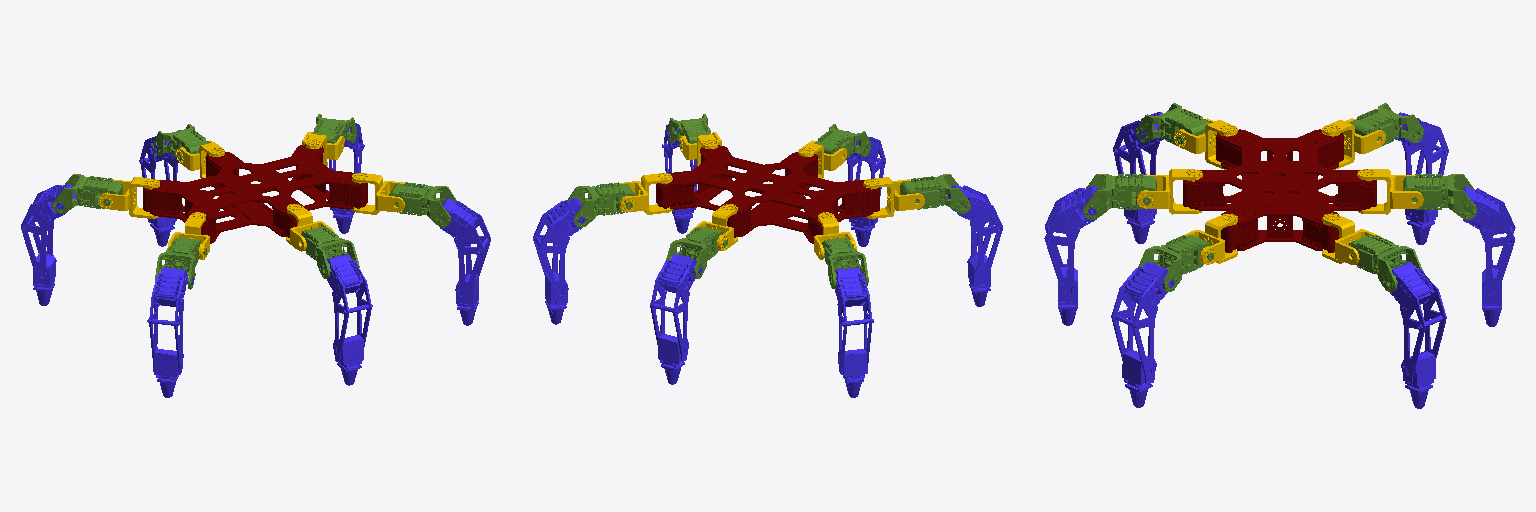
The robot description file, URDF, robot "phantomx":
<?xml version="1.0" ?>
<!-- =================================================================================== -->
<!-- |    This document was autogenerated by xacro from phantomx/phantomx.xacro        | -->
<!-- |    EDITING THIS FILE BY HAND IS NOT RECOMMENDED                                 | -->
<!-- =================================================================================== -->
<robot name="phantomx" xmlns:xacro="http://www.ros.org/wiki/xacro">
  <material name="Blue">
    <color rgba="0.33 0.25 1.0 1.0"/>
  </material>
  <material name="DarkBlue">
    <color rgba="0.03 0.16 0.8 1.0"/>
  </material>
  <material name="Green">
    <color rgba="0.0 0.8 0.0 1.0"/>
  </material>
  <material name="Grey">
    <color rgba="0.7 0.7 0.7 1.0"/>
  </material>
  <material name="DarkGreen">
    <color rgba="0.4 0.6 0.24 1.0"/>
  </material>
  <material name="Red">
    <color rgba="0.48 0.03 0.03 1.0"/>
  </material>
  <material name="White">
    <color rgba="1.0 1.0 1.0 1.0"/>
  </material>
  <material name="Yellow">
    <color rgba="1.0 0.8 0.0 1.0"/>
  </material>
  <!-- Build the body frame -->
  <link name="baseLink">
    <inertial>
      <origin xyz="0 0 0"/>
      <mass value="0.97559947"/>
      <inertia ixx="3.1081800" ixy="0" ixz="0" iyy="5.3787776" iyz="0" izz="3.3316425"/>
    </inertial>
    <visual>
      <!--origin xyz="-0.0235 0 -0.03525" rpy="0 0 0" / -->
      <origin rpy="0 0 0" xyz="0 0 0"/>
      <geometry>
        <!--box size="0.102 0.109 0.106" / -->
        <mesh filename="meshes/body_low.STL" scale="1 1 1"/>
      </geometry>
      <material name="Red"/>
    </visual>
    <collision>
      <origin rpy="0 0 0" xyz="0 0 0"/>
      <geometry>
        <mesh filename="meshes/body_coll.STL" scale="1 1 1"/>
      </geometry>
    </collision>
  </link>
  <link name="c1_rf">
    <inertial>
      <origin rpy="0 0 0" xyz="0 -0.02633 0"/>
      <mass value="0.024357719"/>
      <inertia ixx="0.0051411124" ixy="0" ixz="0" iyy="0.0081915737" iyz="0" izz="0.0041379812"/>
    </inertial>
    <visual>
      <origin rpy="0 0 0" xyz="0 -0.0252 0"/>
      <geometry>
        <!--box size="0.045 0.022 0.0325" / -->
        <mesh filename="meshes/connect_low.STL" scale="1 1 1"/>
      </geometry>
      <material name="Yellow"/>
    </visual>
    <collision>
      <origin rpy="0 0 0" xyz="0 -0.02633 0"/>
      <geometry>
        <mesh filename="meshes/connect_coll.STL" scale="1 1 1"/>
      </geometry>
    </collision>
  </link>
  <link name="c2_rf">
    <inertial>
      <origin rpy="0 0 0" xyz="0 -0.02633 0"/>
      <mass value="0.024357719"/>
      <inertia ixx="0.0051411124" ixy="0" ixz="0" iyy="0.0081915737" iyz="0" izz="0.0041379812"/>
    </inertial>
    <visual>
      <origin rpy="0 0 0" xyz="0 -0.0252 0"/>
      <geometry>
        <!--box size="0.045 0.022 0.0325" / -->
        <mesh filename="meshes/connect_low.STL" scale="1 1 1"/>
      </geometry>
      <material name="Yellow"/>
    </visual>
    <collision>
      <origin rpy="0 0 0" xyz="0 -0.02633 0"/>
      <geometry>
        <mesh filename="meshes/connect_coll.STL" scale="1 1 1"/>
      </geometry>
    </collision>
  </link>
  <link name="thigh_rf">
    <inertial>
      <origin rpy="0 0 0" xyz="0 0 0"/>
      <mass value="0.024357719"/>
      <inertia ixx="0.0051411124" ixy="0" ixz="0" iyy="0.0081915737" iyz="0" izz="0.0041379812"/>
    </inertial>
    <visual>
      <origin rpy="0 0 0" xyz="0 0 0"/>
      <geometry>
        <!--box size="0.045 0.022 0.0325" / -->
        <mesh filename="meshes/thigh_l_low.STL" scale="1 1 1"/>
      </geometry>
      <material name="DarkGreen"/>
    </visual>
    <collision>
      <origin rpy="0 0 0" xyz="0 0 0"/>
      <geometry>
        <mesh filename="meshes/thigh_l_coll.STL" scale="1 1 1"/>
      </geometry>
    </collision>
  </link>
  <link name="tibia_rf">
    <inertial>
      <origin rpy="0 0 0" xyz="0 0 0"/>
      <mass value="0.024357719"/>
      <inertia ixx="0.0051411124" ixy="0" ixz="0" iyy="0.0081915737" iyz="0" izz="0.0041379812"/>
    </inertial>
    <visual>
      <origin rpy="0 0 0" xyz="0 0 0"/>
      <geometry>
        <!--box size="0.045 0.022 0.0325" / -->
        <mesh filename="meshes/tibia_l_low.STL" scale="1 1 1"/>
      </geometry>
      <material name="Blue"/>
    </visual>
    <collision>
      <origin rpy="0 0 0" xyz="0 0 0"/>
      <geometry>
        <mesh filename="meshes/tibia_l_coll.STL" scale="1 1 1"/>
      </geometry>
    </collision>
  </link>
  <joint name="j_c1_rf" type="revolute">
    <parent link="baseLink"/>
    <child link="c1_rf"/>
    <origin rpy="0 4.7123 0.7853981633974483" xyz="0.1248 -0.06164  0.001116"/>
    <axis xyz="1 0 0"/>
    <limit effort="2.8" lower="-2.6179939" upper="2.6179939" velocity="5.6548668"/>
  </joint>
  <joint name="j_c2_rf" type="fixed">
    <parent link="c1_rf"/>
    <child link="c2_rf"/>
    <origin rpy="0 1.5704 3.14159" xyz="0 -0.054 0"/>
  </joint>
  <joint name="j_thigh_rf" type="revolute">
    <parent link="c2_rf"/>
    <child link="thigh_rf"/>
    <origin rpy=" 0 3.14159 3.14159" xyz="0 0 0"/>
    <axis xyz="1 0 0"/>
    <limit effort="2.8" lower="-2.6179939" upper="2.6179939" velocity="5.6548668"/>
  </joint>
  <joint name="j_tibia_rf" type="revolute">
    <parent link="thigh_rf"/>
    <child link="tibia_rf"/>
    <origin rpy="-1.5707 0 3.14159" xyz="0 -0.0645 -0.0145"/>
    <axis xyz="1 0 0"/>
    <limit effort="2.8" lower="-2.6179939" upper="2.6179939" velocity="5.6548668"/>
  </joint>
  <link name="c1_rm">
    <inertial>
      <origin rpy="0 0 0" xyz="0 -0.02633 0"/>
      <mass value="0.024357719"/>
      <inertia ixx="0.0051411124" ixy="0" ixz="0" iyy="0.0081915737" iyz="0" izz="0.0041379812"/>
    </inertial>
    <visual>
      <origin rpy="0 0 0" xyz="0 -0.0252 0"/>
      <geometry>
        <!--box size="0.045 0.022 0.0325" / -->
        <mesh filename="meshes/connect_low.STL" scale="1 1 1"/>
      </geometry>
      <material name="Yellow"/>
    </visual>
    <collision>
      <origin rpy="0 0 0" xyz="0 -0.02633 0"/>
      <geometry>
        <mesh filename="meshes/connect_coll.STL" scale="1 1 1"/>
      </geometry>
    </collision>
  </link>
  <link name="c2_rm">
    <inertial>
      <origin rpy="0 0 0" xyz="0 -0.02633 0"/>
      <mass value="0.024357719"/>
      <inertia ixx="0.0051411124" ixy="0" ixz="0" iyy="0.0081915737" iyz="0" izz="0.0041379812"/>
    </inertial>
    <visual>
      <origin rpy="0 0 0" xyz="0 -0.0252 0"/>
      <geometry>
        <!--box size="0.045 0.022 0.0325" / -->
        <mesh filename="meshes/connect_low.STL" scale="1 1 1"/>
      </geometry>
      <material name="Yellow"/>
    </visual>
    <collision>
      <origin rpy="0 0 0" xyz="0 -0.02633 0"/>
      <geometry>
        <mesh filename="meshes/connect_coll.STL" scale="1 1 1"/>
      </geometry>
    </collision>
  </link>
  <link name="thigh_rm">
    <inertial>
      <origin rpy="0 0 0" xyz="0 0 0"/>
      <mass value="0.024357719"/>
      <inertia ixx="0.0051411124" ixy="0" ixz="0" iyy="0.0081915737" iyz="0" izz="0.0041379812"/>
    </inertial>
    <visual>
      <origin rpy="0 0 0" xyz="0 0 0"/>
      <geometry>
        <!--box size="0.045 0.022 0.0325" / -->
        <mesh filename="meshes/thigh_l_low.STL" scale="1 1 1"/>
      </geometry>
      <material name="DarkGreen"/>
    </visual>
    <collision>
      <origin rpy="0 0 0" xyz="0 0 0"/>
      <geometry>
        <mesh filename="meshes/thigh_l_coll.STL" scale="1 1 1"/>
      </geometry>
    </collision>
  </link>
  <link name="tibia_rm">
    <inertial>
      <origin rpy="0 0 0" xyz="0 0 0"/>
      <mass value="0.024357719"/>
      <inertia ixx="0.0051411124" ixy="0" ixz="0" iyy="0.0081915737" iyz="0" izz="0.0041379812"/>
    </inertial>
    <visual>
      <origin rpy="0 0 0" xyz="0 0 0"/>
      <geometry>
        <!--box size="0.045 0.022 0.0325" / -->
        <mesh filename="meshes/tibia_l_low.STL" scale="1 1 1"/>
      </geometry>
      <material name="Blue"/>
    </visual>
    <collision>
      <origin rpy="0 0 0" xyz="0 0 0"/>
      <geometry>
        <mesh filename="meshes/tibia_l_coll.STL" scale="1 1 1"/>
      </geometry>
    </collision>
  </link>
  <joint name="j_c1_rm" type="revolute">
    <parent link="baseLink"/>
    <child link="c1_rm"/>
    <origin rpy="0 4.7123 0" xyz="0 -0.1034  0.001116"/>
    <axis xyz="1 0 0"/>
    <limit effort="2.8" lower="-2.6179939" upper="2.6179939" velocity="5.6548668"/>
  </joint>
  <joint name="j_c2_rm" type="fixed">
    <parent link="c1_rm"/>
    <child link="c2_rm"/>
    <origin rpy="0 1.5704 3.14159" xyz="0 -0.054 0"/>
  </joint>
  <joint name="j_thigh_rm" type="revolute">
    <parent link="c2_rm"/>
    <child link="thigh_rm"/>
    <origin rpy=" 0 3.14159 3.14159" xyz="0 0 0"/>
    <axis xyz="1 0 0"/>
    <limit effort="2.8" lower="-2.6179939" upper="2.6179939" velocity="5.6548668"/>
  </joint>
  <joint name="j_tibia_rm" type="revolute">
    <parent link="thigh_rm"/>
    <child link="tibia_rm"/>
    <origin rpy="-1.5707 0 3.14159" xyz="0 -0.0645 -0.0145"/>
    <axis xyz="1 0 0"/>
    <limit effort="2.8" lower="-2.6179939" upper="2.6179939" velocity="5.6548668"/>
  </joint>
  <link name="c1_rr">
    <inertial>
      <origin rpy="0 0 0" xyz="0 -0.02633 0"/>
      <mass value="0.024357719"/>
      <inertia ixx="0.0051411124" ixy="0" ixz="0" iyy="0.0081915737" iyz="0" izz="0.0041379812"/>
    </inertial>
    <visual>
      <origin rpy="0 0 0" xyz="0 -0.0252 0"/>
      <geometry>
        <!--box size="0.045 0.022 0.0325" / -->
        <mesh filename="meshes/connect_low.STL" scale="1 1 1"/>
      </geometry>
      <material name="Yellow"/>
    </visual>
    <collision>
      <origin rpy="0 0 0" xyz="0 -0.02633 0"/>
      <geometry>
        <mesh filename="meshes/connect_coll.STL" scale="1 1 1"/>
      </geometry>
    </collision>
  </link>
  <link name="c2_rr">
    <inertial>
      <origin rpy="0 0 0" xyz="0 -0.02633 0"/>
      <mass value="0.024357719"/>
      <inertia ixx="0.0051411124" ixy="0" ixz="0" iyy="0.0081915737" iyz="0" izz="0.0041379812"/>
    </inertial>
    <visual>
      <origin rpy="0 0 0" xyz="0 -0.0252 0"/>
      <geometry>
        <!--box size="0.045 0.022 0.0325" / -->
        <mesh filename="meshes/connect_low.STL" scale="1 1 1"/>
      </geometry>
      <material name="Yellow"/>
    </visual>
    <collision>
      <origin rpy="0 0 0" xyz="0 -0.02633 0"/>
      <geometry>
        <mesh filename="meshes/connect_coll.STL" scale="1 1 1"/>
      </geometry>
    </collision>
  </link>
  <link name="thigh_rr">
    <inertial>
      <origin rpy="0 0 0" xyz="0 0 0"/>
      <mass value="0.024357719"/>
      <inertia ixx="0.0051411124" ixy="0" ixz="0" iyy="0.0081915737" iyz="0" izz="0.0041379812"/>
    </inertial>
    <visual>
      <origin rpy="0 0 0" xyz="0 0 0"/>
      <geometry>
        <!--box size="0.045 0.022 0.0325" / -->
        <mesh filename="meshes/thigh_l_low.STL" scale="1 1 1"/>
      </geometry>
      <material name="DarkGreen"/>
    </visual>
    <collision>
      <origin rpy="0 0 0" xyz="0 0 0"/>
      <geometry>
        <mesh filename="meshes/thigh_l_coll.STL" scale="1 1 1"/>
      </geometry>
    </collision>
  </link>
  <link name="tibia_rr">
    <inertial>
      <origin rpy="0 0 0" xyz="0 0 0"/>
      <mass value="0.024357719"/>
      <inertia ixx="0.0051411124" ixy="0" ixz="0" iyy="0.0081915737" iyz="0" izz="0.0041379812"/>
    </inertial>
    <visual>
      <origin rpy="0 0 0" xyz="0 0 0"/>
      <geometry>
        <!--box size="0.045 0.022 0.0325" / -->
        <mesh filename="meshes/tibia_l_low.STL" scale="1 1 1"/>
      </geometry>
      <material name="Blue"/>
    </visual>
    <collision>
      <origin rpy="0 0 0" xyz="0 0 0"/>
      <geometry>
        <mesh filename="meshes/tibia_l_coll.STL" scale="1 1 1"/>
      </geometry>
    </collision>
  </link>
  <joint name="j_c1_rr" type="revolute">
    <parent link="baseLink"/>
    <child link="c1_rr"/>
    <origin rpy="0 4.7123 -0.7853981633974483" xyz="-0.1248 -0.06164  0.001116"/>
    <axis xyz="1 0 0"/>
    <limit effort="2.8" lower="-2.6179939" upper="2.6179939" velocity="5.6548668"/>
  </joint>
  <joint name="j_c2_rr" type="fixed">
    <parent link="c1_rr"/>
    <child link="c2_rr"/>
    <origin rpy="0 1.5704 3.14159" xyz="0 -0.054 0"/>
  </joint>
  <joint name="j_thigh_rr" type="revolute">
    <parent link="c2_rr"/>
    <child link="thigh_rr"/>
    <origin rpy=" 0 3.14159 3.14159" xyz="0 0 0"/>
    <axis xyz="1 0 0"/>
    <limit effort="2.8" lower="-2.6179939" upper="2.6179939" velocity="5.6548668"/>
  </joint>
  <joint name="j_tibia_rr" type="revolute">
    <parent link="thigh_rr"/>
    <child link="tibia_rr"/>
    <origin rpy="-1.5707 0 3.14159" xyz="0 -0.0645 -0.0145"/>
    <axis xyz="1 0 0"/>
    <limit effort="2.8" lower="-2.6179939" upper="2.6179939" velocity="5.6548668"/>
  </joint>
  <link name="c1_lf">
    <inertial>
      <origin rpy="0 0 0" xyz="0 -0.02633 0"/>
      <mass value="0.024357719"/>
      <inertia ixx="0.0051411124" ixy="0" ixz="0" iyy="0.0081915737" iyz="0" izz="0.0041379812"/>
    </inertial>
    <visual>
      <origin rpy="0 0 0" xyz="0 -0.0252 0"/>
      <geometry>
        <!--box size="0.045 0.022 0.0325" / -->
        <mesh filename="meshes/connect_low.STL" scale="1 1 1"/>
      </geometry>
      <material name="Yellow"/>
    </visual>
    <collision>
      <origin rpy="0 0 0" xyz="0 -0.02633 0"/>
      <geometry>
        <mesh filename="meshes/connect_coll.STL" scale="1 1 1"/>
      </geometry>
    </collision>
  </link>
  <link name="c2_lf">
    <inertial>
      <origin rpy="0 0 0" xyz="0 -0.02633 0"/>
      <mass value="0.024357719"/>
      <inertia ixx="0.0051411124" ixy="0" ixz="0" iyy="0.0081915737" iyz="0" izz="0.0041379812"/>
    </inertial>
    <visual>
      <origin rpy="0 0 0" xyz="0 -0.0252 0"/>
      <geometry>
        <!--box size="0.045 0.022 0.0325" / -->
        <mesh filename="meshes/connect_low.STL" scale="1 1 1"/>
      </geometry>
      <material name="Yellow"/>
    </visual>
    <collision>
      <origin rpy="0 0 0" xyz="0 -0.02633 0"/>
      <geometry>
        <mesh filename="meshes/connect_coll.STL" scale="1 1 1"/>
      </geometry>
    </collision>
  </link>
  <link name="thigh_lf">
    <inertial>
      <origin rpy="0 0 0" xyz="0 0 0"/>
      <mass value="0.024357719"/>
      <inertia ixx="0.0051411124" ixy="0" ixz="0" iyy="0.0081915737" iyz="0" izz="0.0041379812"/>
    </inertial>
    <visual>
      <origin rpy="0 0 0" xyz="0 0 0"/>
      <geometry>
        <!--box size="0.045 0.022 0.0325" / -->
        <mesh filename="meshes/thigh_l_low.STL" scale="1 1 1"/>
      </geometry>
      <material name="DarkGreen"/>
    </visual>
    <collision>
      <origin rpy="0 0 0" xyz="0 0 0"/>
      <geometry>
        <mesh filename="meshes/thigh_l_coll.STL" scale="1 1 1"/>
      </geometry>
    </collision>
  </link>
  <link name="tibia_lf">
    <inertial>
      <origin rpy="0 0 0" xyz="0 0 0"/>
      <mass value="0.024357719"/>
      <inertia ixx="0.0051411124" ixy="0" ixz="0" iyy="0.0081915737" iyz="0" izz="0.0041379812"/>
    </inertial>
    <visual>
      <origin rpy="0 0 0" xyz="0 0 0"/>
      <geometry>
        <!--box size="0.045 0.022 0.0325" / -->
        <mesh filename="meshes/tibia_l_low.STL" scale="1 1 1"/>
      </geometry>
      <material name="Blue"/>
    </visual>
    <collision>
      <origin rpy="0 0 0" xyz="0 0 0"/>
      <geometry>
        <mesh filename="meshes/tibia_l_coll.STL" scale="1 1 1"/>
      </geometry>
    </collision>
  </link>
  <joint name="j_c1_lf" type="revolute">
    <parent link="baseLink"/>
    <child link="c1_lf"/>
    <origin rpy="0 4.7123 2.356194490192345" xyz="0.1248 0.06164  0.001116"/>
    <axis xyz="1 0 0"/>
    <limit effort="2.8" lower="-2.6179939" upper="2.6179939" velocity="5.6548668"/>
  </joint>
  <joint name="j_c2_lf" type="fixed">
    <parent link="c1_lf"/>
    <child link="c2_lf"/>
    <origin rpy="0 1.5704 3.14159" xyz="0 -0.054 0"/>
  </joint>
  <joint name="j_thigh_lf" type="revolute">
    <parent link="c2_lf"/>
    <child link="thigh_lf"/>
    <origin rpy=" 0 3.14159 3.14159" xyz="0 0 0"/>
    <axis xyz="1 0 0"/>
    <limit effort="2.8" lower="-2.6179939" upper="2.6179939" velocity="5.6548668"/>
  </joint>
  <joint name="j_tibia_lf" type="revolute">
    <parent link="thigh_lf"/>
    <child link="tibia_lf"/>
    <origin rpy="-1.5707 0 3.14159" xyz="0 -0.0645 -0.0145"/>
    <axis xyz="1 0 0"/>
    <limit effort="2.8" lower="-2.6179939" upper="2.6179939" velocity="5.6548668"/>
  </joint>
  <link name="c1_lm">
    <inertial>
      <origin rpy="0 0 0" xyz="0 -0.02633 0"/>
      <mass value="0.024357719"/>
      <inertia ixx="0.0051411124" ixy="0" ixz="0" iyy="0.0081915737" iyz="0" izz="0.0041379812"/>
    </inertial>
    <visual>
      <origin rpy="0 0 0" xyz="0 -0.0252 0"/>
      <geometry>
        <!--box size="0.045 0.022 0.0325" / -->
        <mesh filename="meshes/connect_low.STL" scale="1 1 1"/>
      </geometry>
      <material name="Yellow"/>
    </visual>
    <collision>
      <origin rpy="0 0 0" xyz="0 -0.02633 0"/>
      <geometry>
        <mesh filename="meshes/connect_coll.STL" scale="1 1 1"/>
      </geometry>
    </collision>
  </link>
  <link name="c2_lm">
    <inertial>
      <origin rpy="0 0 0" xyz="0 -0.02633 0"/>
      <mass value="0.024357719"/>
      <inertia ixx="0.0051411124" ixy="0" ixz="0" iyy="0.0081915737" iyz="0" izz="0.0041379812"/>
    </inertial>
    <visual>
      <origin rpy="0 0 0" xyz="0 -0.0252 0"/>
      <geometry>
        <!--box size="0.045 0.022 0.0325" / -->
        <mesh filename="meshes/connect_low.STL" scale="1 1 1"/>
      </geometry>
      <material name="Yellow"/>
    </visual>
    <collision>
      <origin rpy="0 0 0" xyz="0 -0.02633 0"/>
      <geometry>
        <mesh filename="meshes/connect_coll.STL" scale="1 1 1"/>
      </geometry>
    </collision>
  </link>
  <link name="thigh_lm">
    <inertial>
      <origin rpy="0 0 0" xyz="0 0 0"/>
      <mass value="0.024357719"/>
      <inertia ixx="0.0051411124" ixy="0" ixz="0" iyy="0.0081915737" iyz="0" izz="0.0041379812"/>
    </inertial>
    <visual>
      <origin rpy="0 0 0" xyz="0 0 0"/>
      <geometry>
        <!--box size="0.045 0.022 0.0325" / -->
        <mesh filename="meshes/thigh_l_low.STL" scale="1 1 1"/>
      </geometry>
      <material name="DarkGreen"/>
    </visual>
    <collision>
      <origin rpy="0 0 0" xyz="0 0 0"/>
      <geometry>
        <mesh filename="meshes/thigh_l_coll.STL" scale="1 1 1"/>
      </geometry>
    </collision>
  </link>
  <link name="tibia_lm">
    <inertial>
      <origin rpy="0 0 0" xyz="0 0 0"/>
      <mass value="0.024357719"/>
      <inertia ixx="0.0051411124" ixy="0" ixz="0" iyy="0.0081915737" iyz="0" izz="0.0041379812"/>
    </inertial>
    <visual>
      <origin rpy="0 0 0" xyz="0 0 0"/>
      <geometry>
        <!--box size="0.045 0.022 0.0325" / -->
        <mesh filename="meshes/tibia_l_low.STL" scale="1 1 1"/>
      </geometry>
      <material name="Blue"/>
    </visual>
    <collision>
      <origin rpy="0 0 0" xyz="0 0 0"/>
      <geometry>
        <mesh filename="meshes/tibia_l_coll.STL" scale="1 1 1"/>
      </geometry>
    </collision>
  </link>
  <joint name="j_c1_lm" type="revolute">
    <parent link="baseLink"/>
    <child link="c1_lm"/>
    <origin rpy="0 4.7123 3.14159" xyz="0 0.1034  0.001116"/>
    <axis xyz="1 0 0"/>
    <limit effort="2.8" lower="-2.6179939" upper="2.6179939" velocity="5.6548668"/>
  </joint>
  <joint name="j_c2_lm" type="fixed">
    <parent link="c1_lm"/>
    <child link="c2_lm"/>
    <origin rpy="0 1.5704 3.14159" xyz="0 -0.054 0"/>
  </joint>
  <joint name="j_thigh_lm" type="revolute">
    <parent link="c2_lm"/>
    <child link="thigh_lm"/>
    <origin rpy=" 0 3.14159 3.14159" xyz="0 0 0"/>
    <axis xyz="1 0 0"/>
    <limit effort="2.8" lower="-2.6179939" upper="2.6179939" velocity="5.6548668"/>
  </joint>
  <joint name="j_tibia_lm" type="revolute">
    <parent link="thigh_lm"/>
    <child link="tibia_lm"/>
    <origin rpy="-1.5707 0 3.14159" xyz="0 -0.0645 -0.0145"/>
    <axis xyz="1 0 0"/>
    <limit effort="2.8" lower="-2.6179939" upper="2.6179939" velocity="5.6548668"/>
  </joint>
  <link name="c1_lr">
    <inertial>
      <origin rpy="0 0 0" xyz="0 -0.02633 0"/>
      <mass value="0.024357719"/>
      <inertia ixx="0.0051411124" ixy="0" ixz="0" iyy="0.0081915737" iyz="0" izz="0.0041379812"/>
    </inertial>
    <visual>
      <origin rpy="0 0 0" xyz="0 -0.0252 0"/>
      <geometry>
        <!--box size="0.045 0.022 0.0325" / -->
        <mesh filename="meshes/connect_low.STL" scale="1 1 1"/>
      </geometry>
      <material name="Yellow"/>
    </visual>
    <collision>
      <origin rpy="0 0 0" xyz="0 -0.02633 0"/>
      <geometry>
        <mesh filename="meshes/connect_coll.STL" scale="1 1 1"/>
      </geometry>
    </collision>
  </link>
  <link name="c2_lr">
    <inertial>
      <origin rpy="0 0 0" xyz="0 -0.02633 0"/>
      <mass value="0.024357719"/>
      <inertia ixx="0.0051411124" ixy="0" ixz="0" iyy="0.0081915737" iyz="0" izz="0.0041379812"/>
    </inertial>
    <visual>
      <origin rpy="0 0 0" xyz="0 -0.0252 0"/>
      <geometry>
        <!--box size="0.045 0.022 0.0325" / -->
        <mesh filename="meshes/connect_low.STL" scale="1 1 1"/>
      </geometry>
      <material name="Yellow"/>
    </visual>
    <collision>
      <origin rpy="0 0 0" xyz="0 -0.02633 0"/>
      <geometry>
        <mesh filename="meshes/connect_coll.STL" scale="1 1 1"/>
      </geometry>
    </collision>
  </link>
  <link name="thigh_lr">
    <inertial>
      <origin rpy="0 0 0" xyz="0 0 0"/>
      <mass value="0.024357719"/>
      <inertia ixx="0.0051411124" ixy="0" ixz="0" iyy="0.0081915737" iyz="0" izz="0.0041379812"/>
    </inertial>
    <visual>
      <origin rpy="0 0 0" xyz="0 0 0"/>
      <geometry>
        <!--box size="0.045 0.022 0.0325" / -->
        <mesh filename="meshes/thigh_l_low.STL" scale="1 1 1"/>
      </geometry>
      <material name="DarkGreen"/>
    </visual>
    <collision>
      <origin rpy="0 0 0" xyz="0 0 0"/>
      <geometry>
        <mesh filename="meshes/thigh_l_coll.STL" scale="1 1 1"/>
      </geometry>
    </collision>
  </link>
  <link name="tibia_lr">
    <inertial>
      <origin rpy="0 0 0" xyz="0 0 0"/>
      <mass value="0.024357719"/>
      <inertia ixx="0.0051411124" ixy="0" ixz="0" iyy="0.0081915737" iyz="0" izz="0.0041379812"/>
    </inertial>
    <visual>
      <origin rpy="0 0 0" xyz="0 0 0"/>
      <geometry>
        <!--box size="0.045 0.022 0.0325" / -->
        <mesh filename="meshes/tibia_l_low.STL" scale="1 1 1"/>
      </geometry>
      <material name="Blue"/>
    </visual>
    <collision>
      <origin rpy="0 0 0" xyz="0 0 0"/>
      <geometry>
        <mesh filename="meshes/tibia_l_coll.STL" scale="1 1 1"/>
      </geometry>
    </collision>
  </link>
  <joint name="j_c1_lr" type="revolute">
    <parent link="baseLink"/>
    <child link="c1_lr"/>
    <origin rpy="0 4.7123 3.9269908169872414" xyz="-0.1248 0.06164  0.001116"/>
    <axis xyz="1 0 0"/>
    <limit effort="2.8" lower="-2.6179939" upper="2.6179939" velocity="5.6548668"/>
  </joint>
  <joint name="j_c2_lr" type="fixed">
    <parent link="c1_lr"/>
    <child link="c2_lr"/>
    <origin rpy="0 1.5704 3.14159" xyz="0 -0.054 0"/>
  </joint>
  <joint name="j_thigh_lr" type="revolute">
    <parent link="c2_lr"/>
    <child link="thigh_lr"/>
    <origin rpy=" 0 3.14159 3.14159" xyz="0 0 0"/>
    <axis xyz="1 0 0"/>
    <limit effort="2.8" lower="-2.6179939" upper="2.6179939" velocity="5.6548668"/>
  </joint>
  <joint name="j_tibia_lr" type="revolute">
    <parent link="thigh_lr"/>
    <child link="tibia_lr"/>
    <origin rpy="-1.5707 0 3.14159" xyz="0 -0.0645 -0.0145"/>
    <axis xyz="1 0 0"/>
    <limit effort="2.8" lower="-2.6179939" upper="2.6179939" velocity="5.6548668"/>
  </joint>
</robot>

--- Facts derived from the render (not from the file) ---
The picture shows the robot from 3 angles, left to right: view 1: azimuth 30°, elevation 25°; view 2: azimuth 150°, elevation 25°; view 3: azimuth 270°, elevation 25°; orthographic projection.
Robot: phantomx — 25 links, 24 joints (18 revolute, 6 fixed); root link baseLink; default pose: every joint at zero.
Links seen in each view (by area): view 1: baseLink, tibia_rm, tibia_rf, tibia_rr, tibia_lr, thigh_rf, thigh_lr, thigh_rm, tibia_lm, thigh_rr, thigh_lm, tibia_lf (+5 smaller); view 2: baseLink, tibia_lm, tibia_lf, tibia_lr, tibia_rr, thigh_lf, thigh_rr, thigh_lm, tibia_rm, thigh_lr, thigh_rm, thigh_rf (+5 smaller); view 3: baseLink, tibia_rf, tibia_lf, tibia_rm, tibia_lm, tibia_lr, tibia_rr, thigh_lm, thigh_rm, thigh_lf, thigh_rf, thigh_lr (+13 smaller).
Link boxes in pixels (bbox=[...]): baseLink: bbox=[143, 144, 367, 243]; tibia_rm: bbox=[327, 254, 372, 385]; tibia_rf: bbox=[440, 198, 490, 325]; tibia_rr: bbox=[147, 267, 193, 397]; tibia_lr: bbox=[21, 184, 76, 305]; thigh_rf: bbox=[389, 182, 456, 227]; thigh_lr: bbox=[52, 174, 122, 213]; thigh_rm: bbox=[301, 226, 359, 278]; tibia_lm: bbox=[139, 130, 179, 246]; thigh_rr: bbox=[155, 237, 206, 289]; thigh_lm: bbox=[152, 124, 208, 159]; tibia_lf: bbox=[329, 123, 364, 233]; baseLink: bbox=[656, 145, 879, 243]; tibia_lm: bbox=[650, 254, 702, 384]; tibia_lf: bbox=[533, 198, 585, 324]; tibia_lr: bbox=[835, 267, 873, 397]; tibia_rr: bbox=[947, 184, 1002, 306]; thigh_lf: bbox=[567, 182, 634, 227]; thigh_rr: bbox=[900, 174, 970, 213]; thigh_lm: bbox=[666, 226, 727, 278]; tibia_rm: bbox=[846, 131, 885, 246]; thigh_lr: bbox=[822, 237, 868, 288]; thigh_rm: bbox=[814, 124, 870, 158]; thigh_rf: bbox=[667, 114, 710, 147]; baseLink: bbox=[1183, 129, 1376, 252]; tibia_rf: bbox=[1111, 262, 1174, 407]; tibia_lf: bbox=[1390, 262, 1446, 408]; tibia_rm: bbox=[1044, 186, 1098, 325]; tibia_lm: bbox=[1462, 186, 1515, 326]; tibia_lr: bbox=[1395, 112, 1448, 244]; tibia_rr: bbox=[1113, 112, 1164, 243]; thigh_lm: bbox=[1403, 174, 1476, 219]; thigh_rm: bbox=[1083, 174, 1156, 219]; thigh_lf: bbox=[1348, 235, 1423, 292]; thigh_rf: bbox=[1138, 235, 1213, 292]; thigh_lr: bbox=[1350, 103, 1423, 145].
Bounding box of the posed robot: 0.5254 × 0.5569 × 0.2 m (x, y, z).
25 mesh visuals loaded from 4 distinct referenced files (4 binary STL).